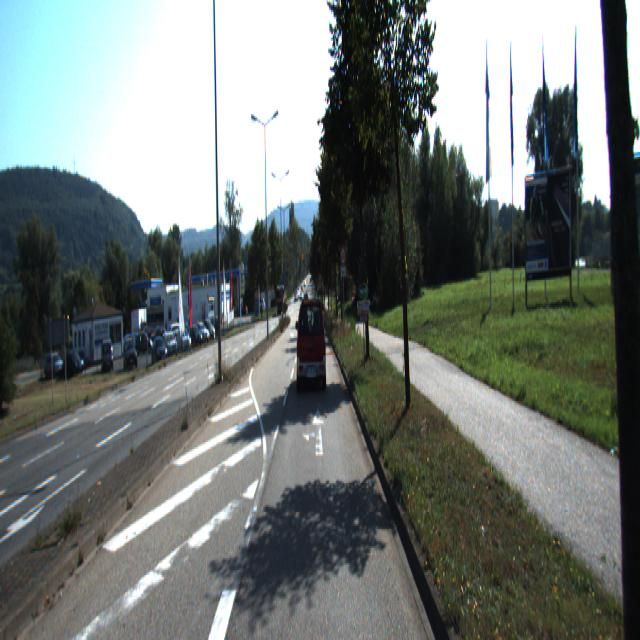Car: (295, 296, 325, 388)
